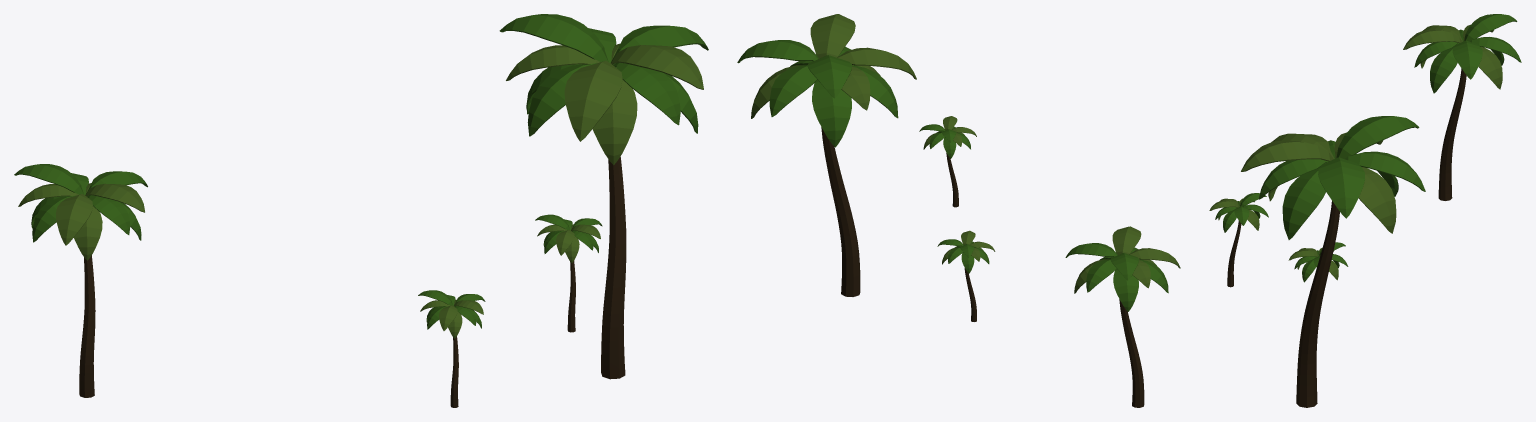
The model's file is decor16.obj.
The picture shows the model from 3 angles, left to right: view 1: azimuth 30°, elevation 25°; view 2: azimuth 150°, elevation 25°; view 3: azimuth 270°, elevation 25°; orthographic projection. The views are drawn at different scales.
Visible parts, largest first — view 1: Palm-tree_Cylinder.001, Palm-tree_Cylinder.003, Palm-tree_Cylinder, Palm-tree_Cylinder.002; view 2: Palm-tree_Cylinder.001, Palm-tree_Cylinder.003, Palm-tree_Cylinder, Palm-tree_Cylinder.002; view 3: Palm-tree_Cylinder.001, Palm-tree_Cylinder.003, Palm-tree_Cylinder, Palm-tree_Cylinder.002.
Boxes of the visible parts, x1=… form: Palm-tree_Cylinder.001: x1=499, y1=14, x2=708, y2=379; Palm-tree_Cylinder.003: x1=14, y1=164, x2=147, y2=397; Palm-tree_Cylinder: x1=535, y1=214, x2=602, y2=332; Palm-tree_Cylinder.002: x1=418, y1=290, x2=485, y2=407; Palm-tree_Cylinder.001: x1=737, y1=14, x2=916, y2=296; Palm-tree_Cylinder.003: x1=1065, y1=226, x2=1180, y2=407; Palm-tree_Cylinder: x1=919, y1=116, x2=976, y2=207; Palm-tree_Cylinder.002: x1=937, y1=230, x2=995, y2=321; Palm-tree_Cylinder.001: x1=1241, y1=116, x2=1425, y2=407; Palm-tree_Cylinder.003: x1=1403, y1=14, x2=1521, y2=200; Palm-tree_Cylinder: x1=1209, y1=193, x2=1268, y2=287; Palm-tree_Cylinder.002: x1=1288, y1=242, x2=1348, y2=282.
Size of the model in its own units: 3614 by 1868 by 1908.
